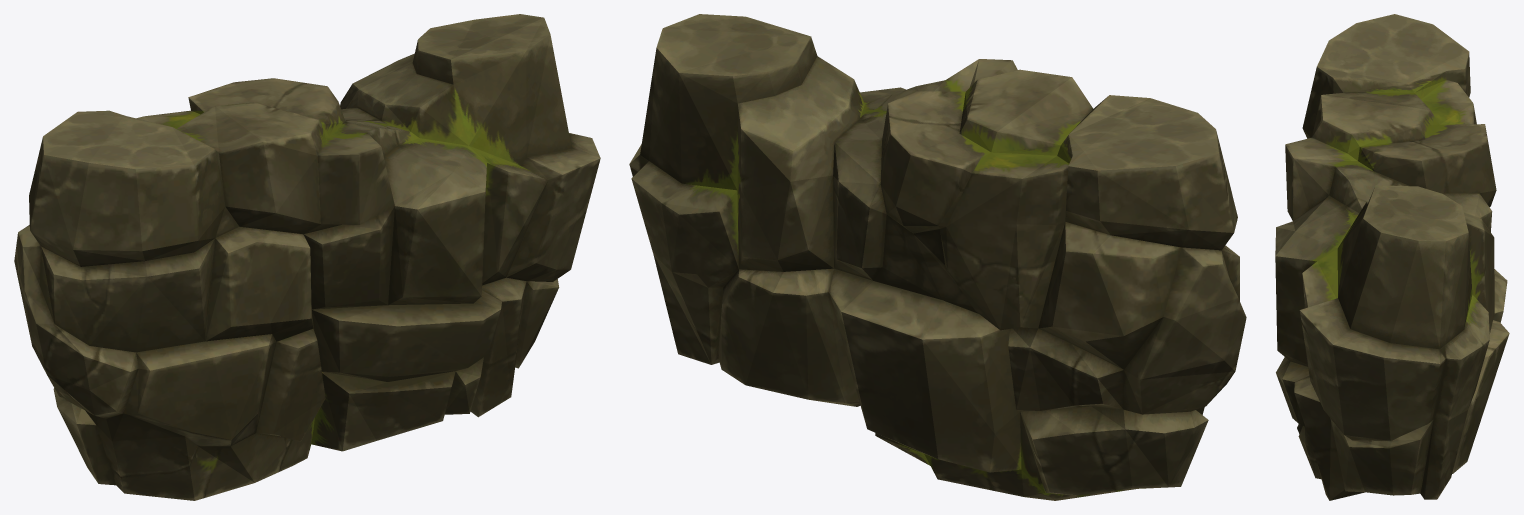
File: cliffrock01.fbx
3 renders of one model, left to right at view 1: azimuth 30°, elevation 25°; view 2: azimuth 150°, elevation 25°; view 3: azimuth 270°, elevation 25°, orthographic. The views are drawn at different scales.
Parts seen in each view (by area): view 1: obj0.063; view 2: obj0.063; view 3: obj0.063.
Boxes of the visible parts, x1,y1,x2,y2 form: obj0.063: (14, 14, 600, 500); obj0.063: (629, 14, 1246, 500); obj0.063: (1275, 14, 1509, 500).
Bounding box in the file's own units: 17.57 × 10.72 × 6.94.
